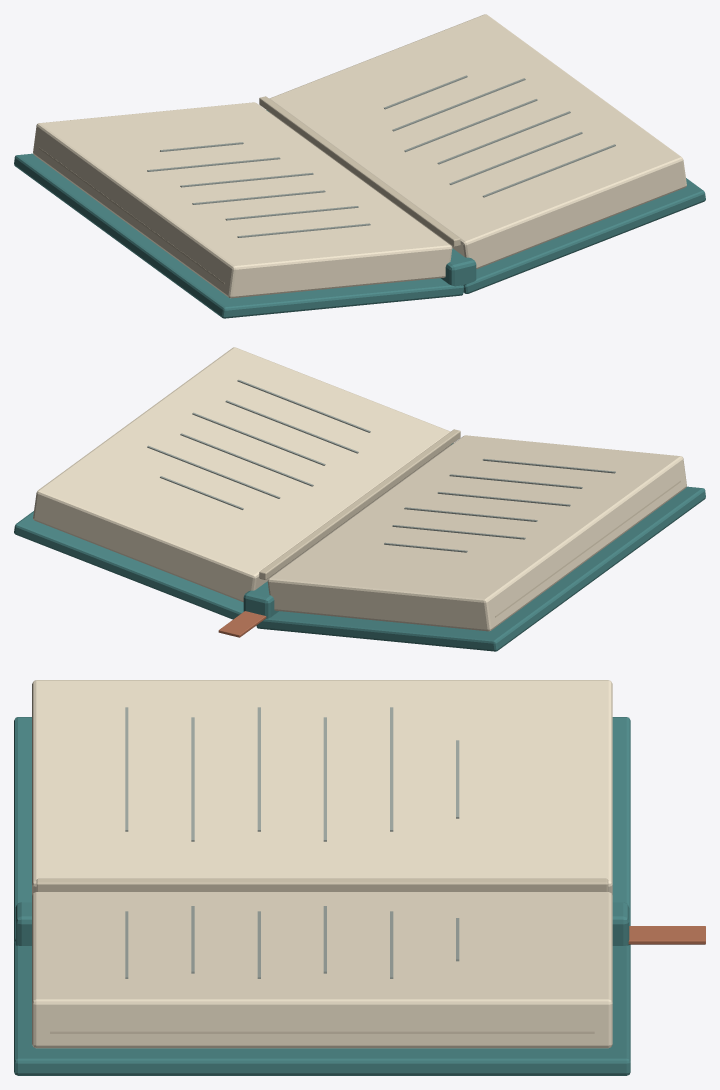
The model's file is open_book.glb.
3 renders of one model, top to bottom at view 1: azimuth 30°, elevation 25°; view 2: azimuth 150°, elevation 25°; view 3: azimuth 270°, elevation 25°, orthographic. The views are drawn at different scales.
Visible parts, largest first — view 1: MESH_open_book; view 2: MESH_open_book; view 3: MESH_open_book.
Part boxes in pixels (<box>): MESH_open_book: <box>14,14,705,318</box>; MESH_open_book: <box>14,347,705,651</box>; MESH_open_book: <box>14,680,705,1075</box>.
Bounding box in the file's own units: 0.2721 × 0.0422 × 0.23.
